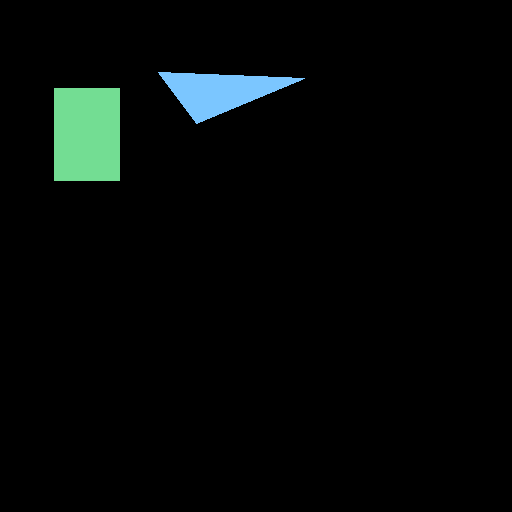rectangle: (54, 88, 119, 180)
triangle: (158, 72, 304, 123)
